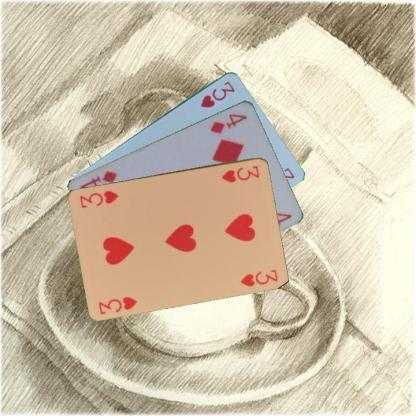3h: (198, 78, 236, 109), (96, 294, 139, 316), (219, 163, 261, 184)
4d: (208, 110, 249, 134)
